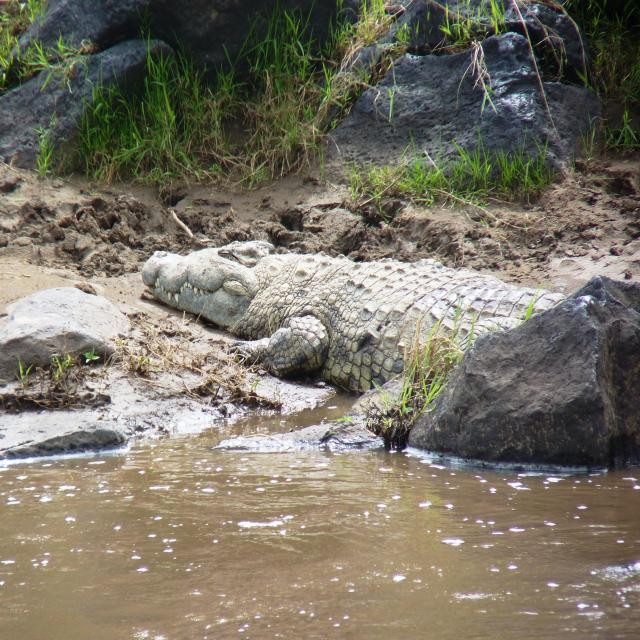crocodile: (119, 227, 582, 397)
